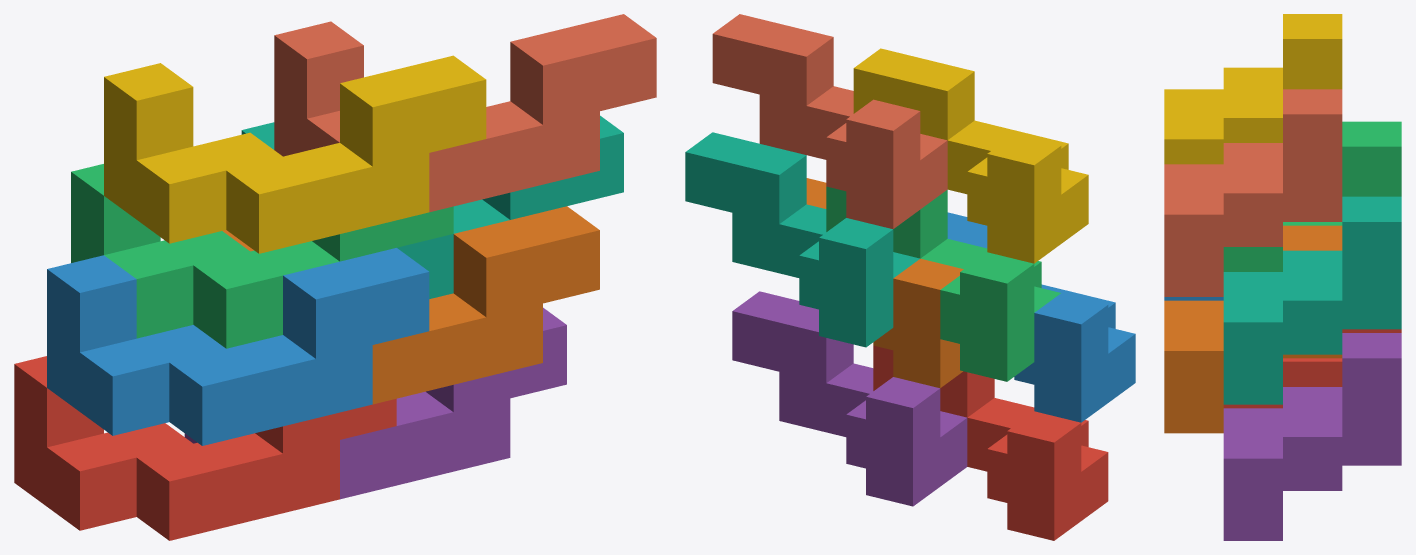
The model's file is tiling.obj.
The picture shows the model from 3 angles, left to right: view 1: azimuth 30°, elevation 25°; view 2: azimuth 150°, elevation 25°; view 3: azimuth 270°, elevation 25°; orthographic projection. The views are drawn at different scales.
Parts seen in each view (by area): view 1: copy_1_domain_4, copy_1_domain_2, copy_1_domain_1, copy_1_domain_8, copy_1_domain_6, copy_1_domain_3, copy_1_domain_5, copy_1_domain_7; view 2: copy_1_domain_8, copy_1_domain_5, copy_1_domain_7, copy_1_domain_4, copy_1_domain_1, copy_1_domain_3, copy_1_domain_2, copy_1_domain_6; view 3: copy_1_domain_7, copy_1_domain_5, copy_1_domain_8, copy_1_domain_4, copy_1_domain_6, copy_1_domain_3, copy_1_domain_1.
Boxes of the visible parts, left/top/right/bottom form: copy_1_domain_4: left=104, top=55, right=486, bottom=253; copy_1_domain_2: left=47, top=248, right=429, bottom=445; copy_1_domain_1: left=14, top=356, right=396, bottom=540; copy_1_domain_8: left=274, top=14, right=656, bottom=212; copy_1_domain_6: left=223, top=206, right=599, bottom=404; copy_1_domain_3: left=71, top=164, right=453, bottom=348; copy_1_domain_5: left=184, top=307, right=566, bottom=499; copy_1_domain_7: left=241, top=115, right=623, bottom=298; copy_1_domain_8: left=712, top=14, right=947, bottom=228; copy_1_domain_5: left=732, top=291, right=967, bottom=506; copy_1_domain_7: left=685, top=132, right=919, bottom=347; copy_1_domain_4: left=853, top=48, right=1088, bottom=263; copy_1_domain_1: left=873, top=345, right=1108, bottom=540; copy_1_domain_3: left=826, top=186, right=1060, bottom=381; copy_1_domain_2: left=947, top=212, right=1135, bottom=422; copy_1_domain_6: left=806, top=178, right=963, bottom=388; copy_1_domain_7: left=1223, top=196, right=1401, bottom=404; copy_1_domain_5: left=1223, top=333, right=1401, bottom=540; copy_1_domain_8: left=1164, top=89, right=1342, bottom=296; copy_1_domain_4: left=1164, top=14, right=1342, bottom=164; copy_1_domain_6: left=1164, top=225, right=1342, bottom=433; copy_1_domain_3: left=1223, top=121, right=1401, bottom=271; copy_1_domain_1: left=1223, top=329, right=1401, bottom=408.
Bounding box in the file's own units: 9 × 7 × 4.
